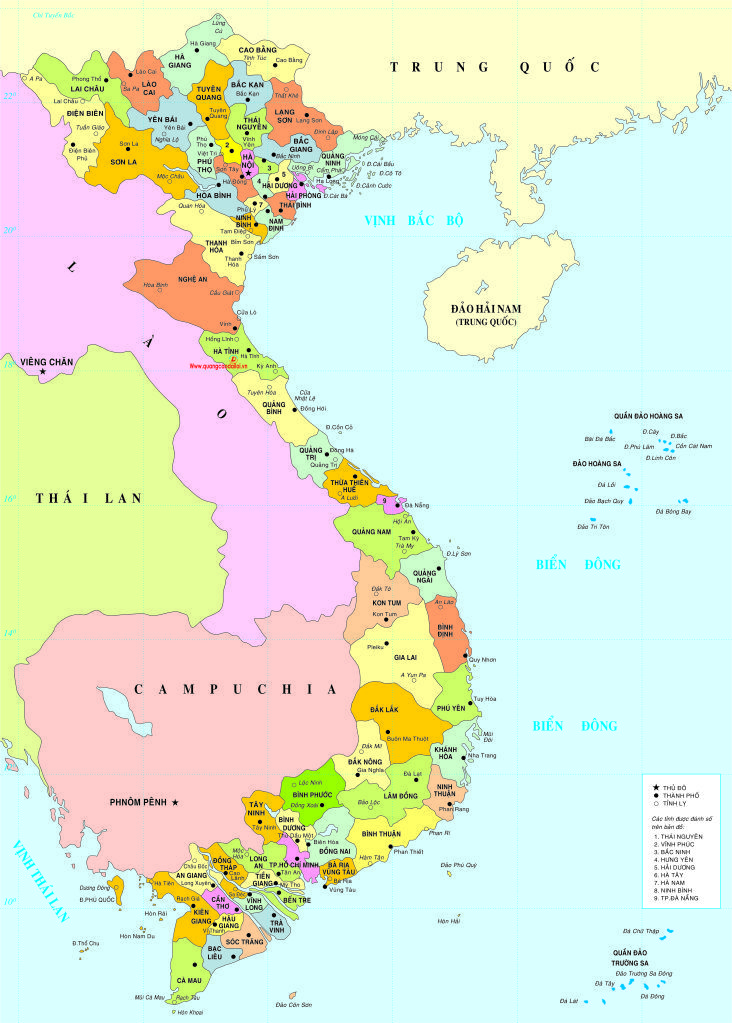Island: (570, 405, 713, 541), (561, 930, 691, 1021)
